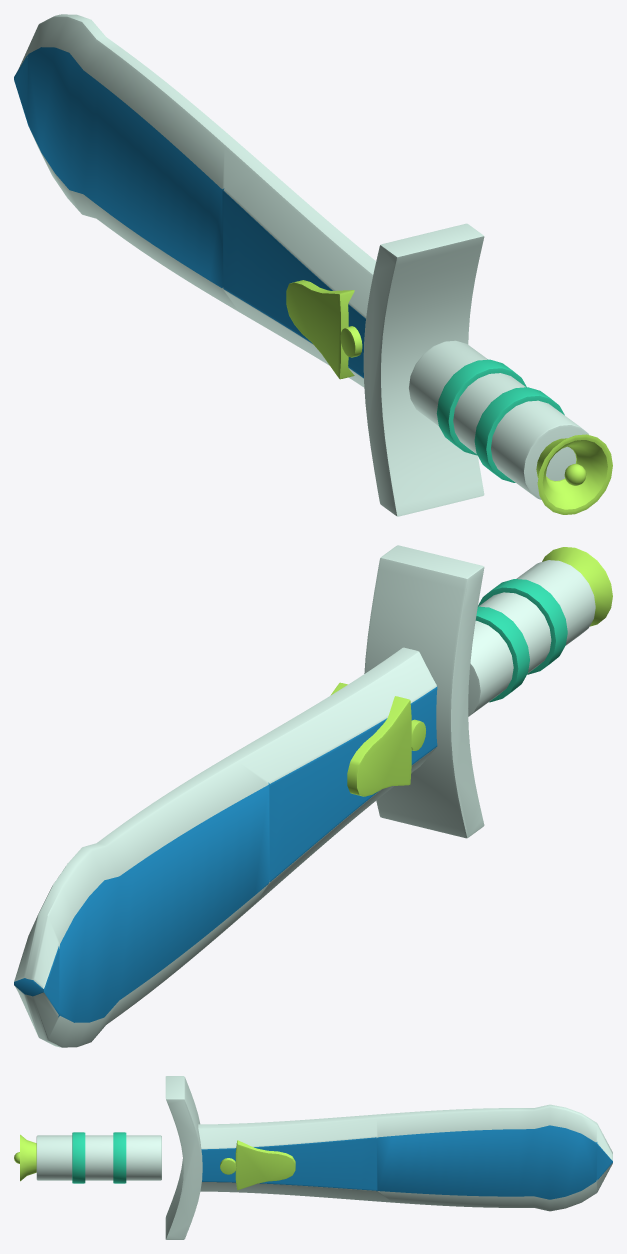
Rendered from Sword_BellringerBroadsword.glb.
3 views of the same model, one above another, from view 1: azimuth 30°, elevation 25°; view 2: azimuth 150°, elevation 25°; view 3: azimuth 270°, elevation 25° (orthographic). The views are drawn at different scales.
Visible parts, largest first — view 1: Sword_BellringerBroadsword; view 2: Sword_BellringerBroadsword; view 3: Sword_BellringerBroadsword.
Part boxes in pixels (bbox=[...]): Sword_BellringerBroadsword: bbox=[14, 14, 612, 516]; Sword_BellringerBroadsword: bbox=[14, 545, 612, 1047]; Sword_BellringerBroadsword: bbox=[14, 1076, 612, 1239].
Bounding box in the file's own units: 0.092 × 0.26 × 1.
1 material, 1 textured.
